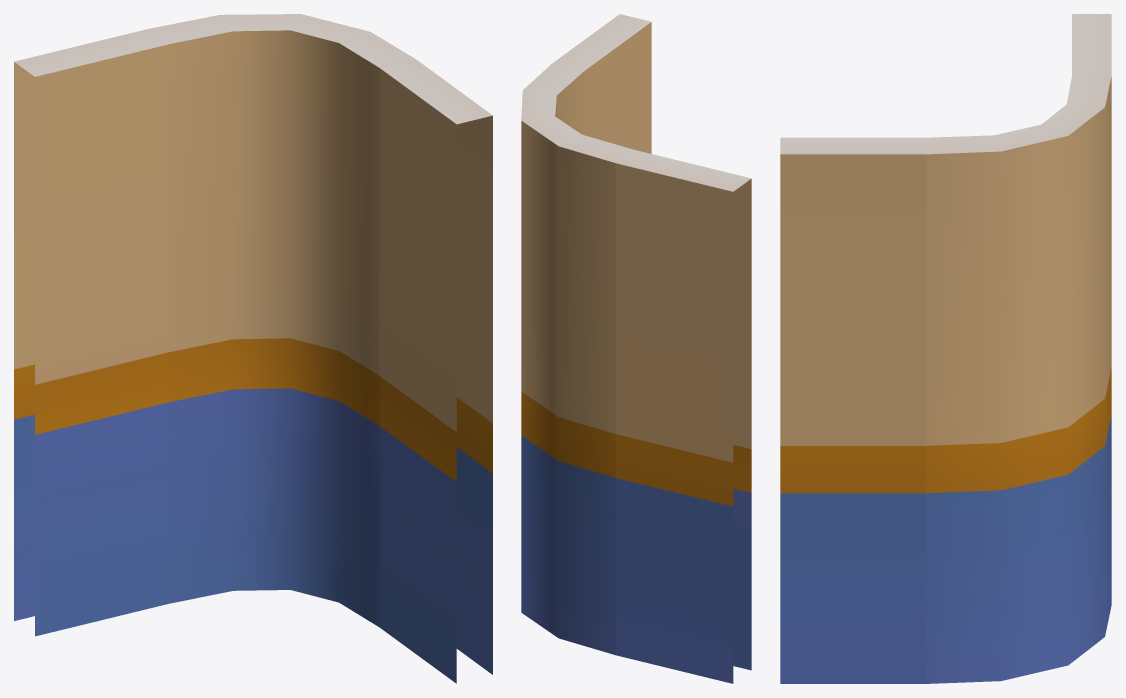
The model's file is Wall_02.fbx.
3 renders of one model, left to right at view 1: azimuth 30°, elevation 25°; view 2: azimuth 150°, elevation 25°; view 3: azimuth 270°, elevation 25°, orthographic. The views are drawn at different scales.
Parts seen in each view (by area): view 1: Wall_02; view 2: Wall_02; view 3: Wall_02.
Part boxes in pixels (x1,y1,x2,y2): Wall_02: [14, 14, 492, 683]; Wall_02: [521, 14, 751, 683]; Wall_02: [780, 14, 1111, 683].
Size of the model in its own units: 70.81 by 125 by 70.61.
